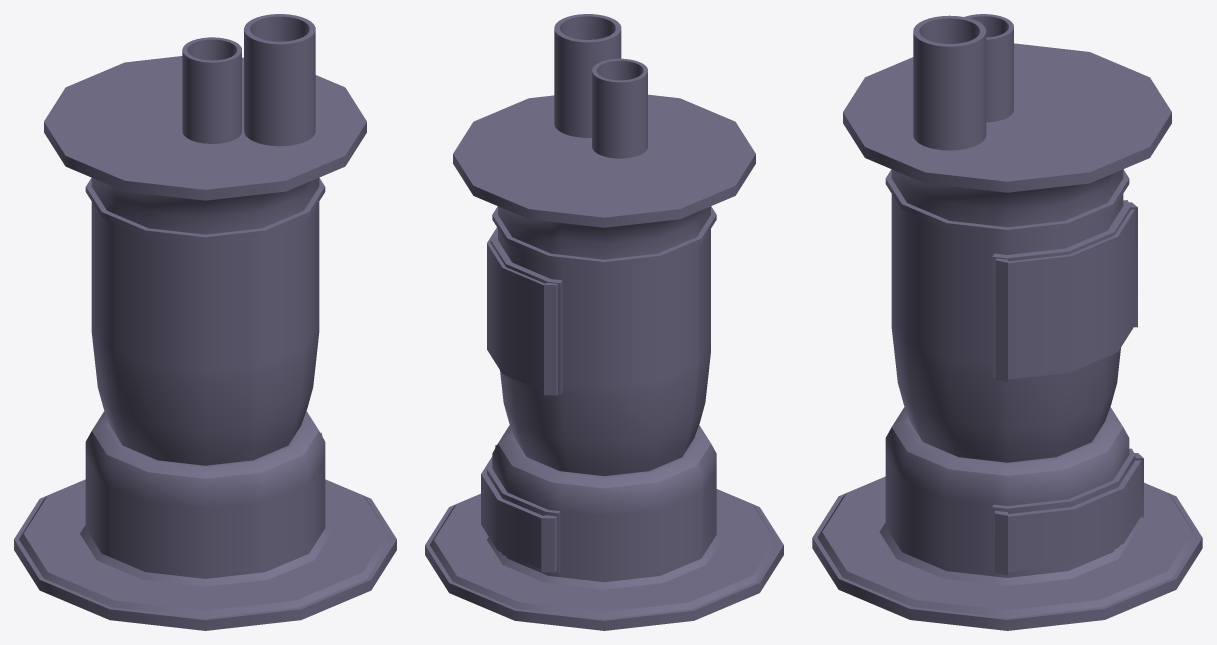
File: Furnace.fbx
3 renders of one model, left to right at view 1: azimuth 30°, elevation 25°; view 2: azimuth 150°, elevation 25°; view 3: azimuth 270°, elevation 25°, orthographic. The views are drawn at different scales.
Parts seen in each view (by area): view 1: furnace, Chimneys; view 2: furnace, Chimneys, top right door, bottom right door, Top left door, bottom left door; view 3: furnace, Chimneys, Top left door, bottom left door, top right door, bottom right door.
Part boxes in pixels (left/top/right/bottom): furnace: left=14, top=56, right=396, bottom=630; Chimneys: left=182, top=14, right=315, bottom=146; furnace: left=425, top=94, right=783, bottom=630; Chimneys: left=554, top=14, right=647, bottom=158; top right door: left=494, top=255, right=557, bottom=395; bottom right door: left=489, top=486, right=557, bottom=572; Top left door: left=487, top=227, right=497, bottom=360; bottom left door: left=481, top=445, right=496, bottom=536; furnace: left=812, top=43, right=1202, bottom=630; Chimneys: left=913, top=14, right=1013, bottom=150; Top left door: left=996, top=245, right=1094, bottom=381; bottom left door: left=995, top=497, right=1098, bottom=575; top right door: left=1092, top=202, right=1137, bottom=361; bottom right door: left=1095, top=453, right=1143, bottom=553.
Size of the model in its own units: 640 by 640 by 978.
